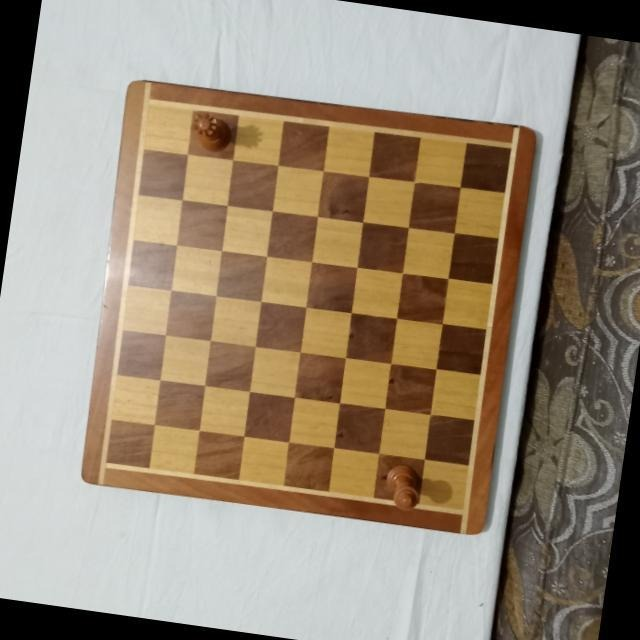white-king: (379, 461, 425, 511)
white-queen: (189, 110, 235, 155)
